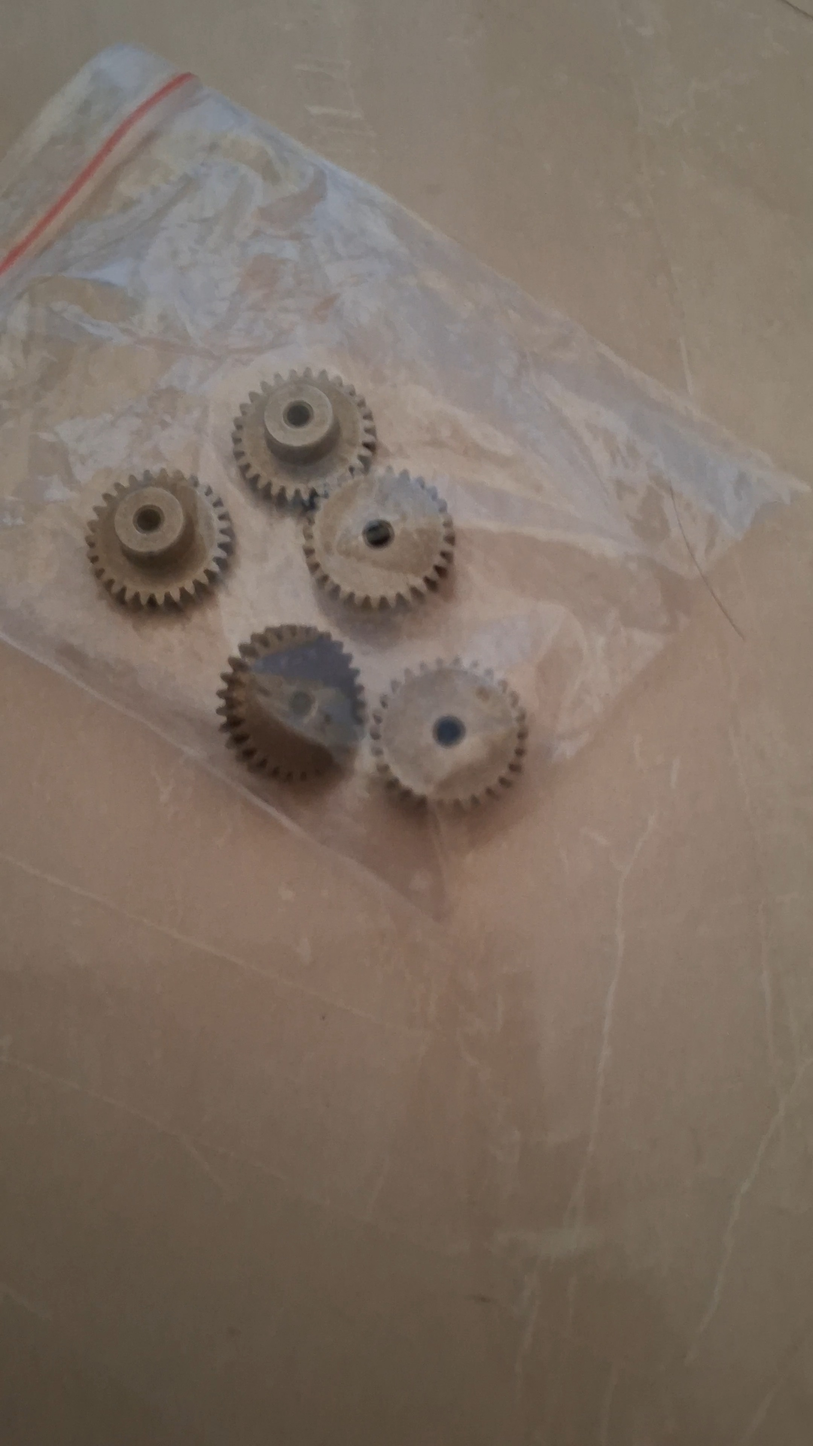spur gear: (370, 659, 527, 805), (218, 625, 364, 780), (304, 468, 454, 607), (86, 470, 233, 607), (234, 369, 375, 503)
